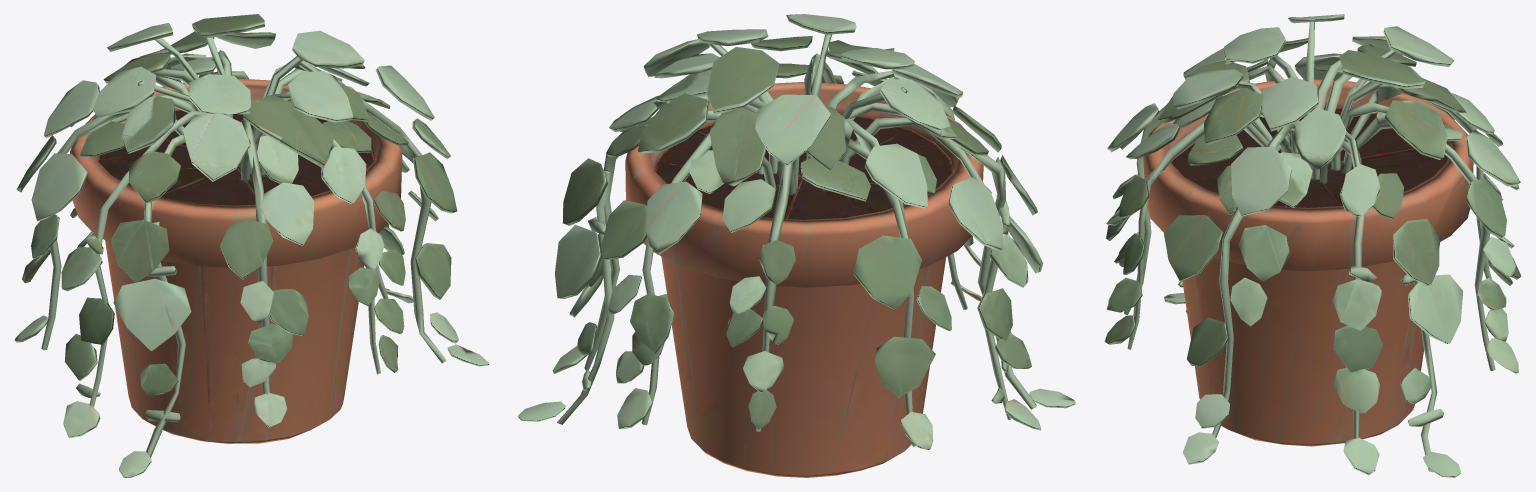
File: pothos.glb
3 renders of one model, left to right at view 1: azimuth 30°, elevation 25°; view 2: azimuth 150°, elevation 25°; view 3: azimuth 270°, elevation 25°, orthographic. The views are drawn at different scales.
Bounding box in the file's own units: 1 × 0.8636 × 0.9111.
1 material, 1 textured.
